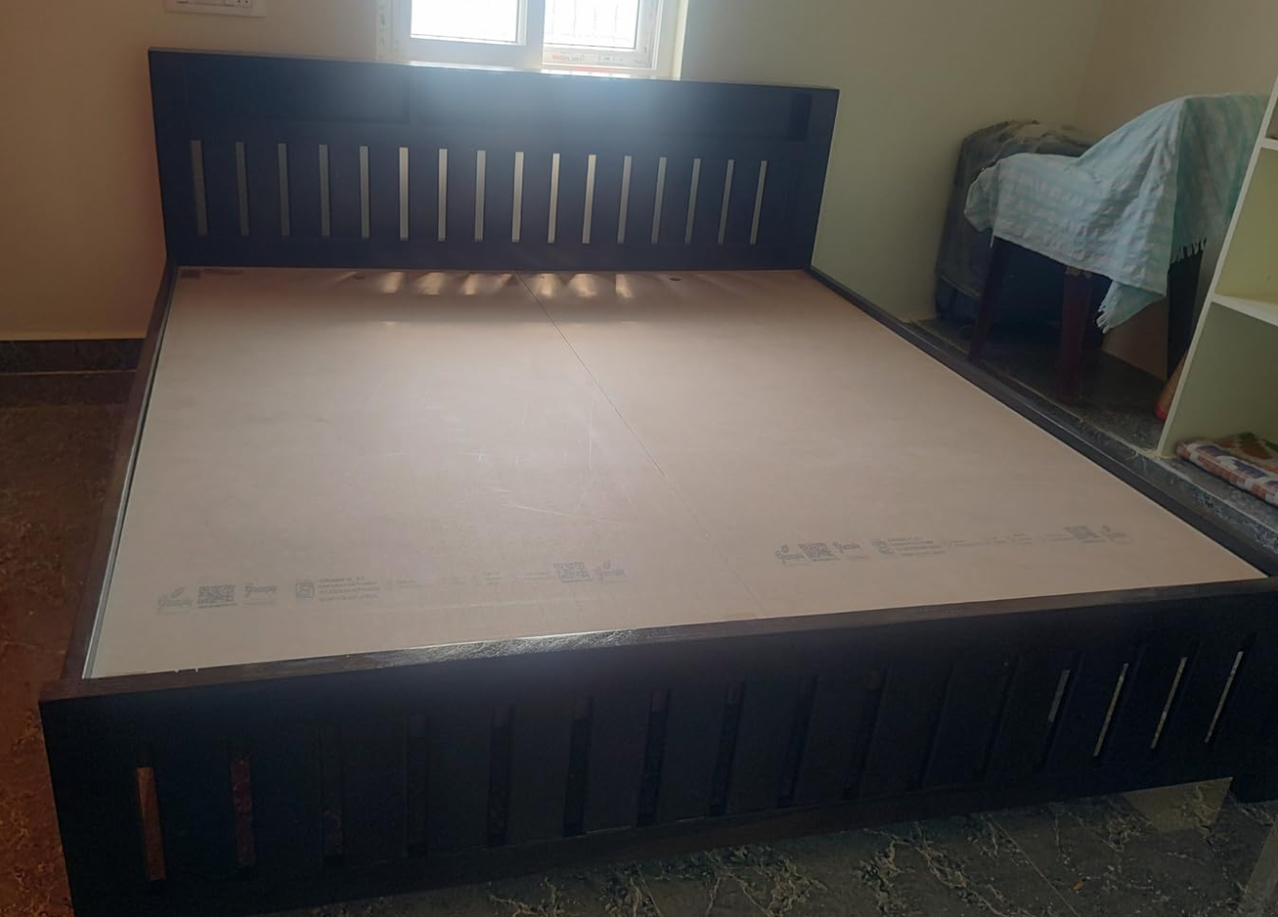cot: (39, 38, 1275, 911)
